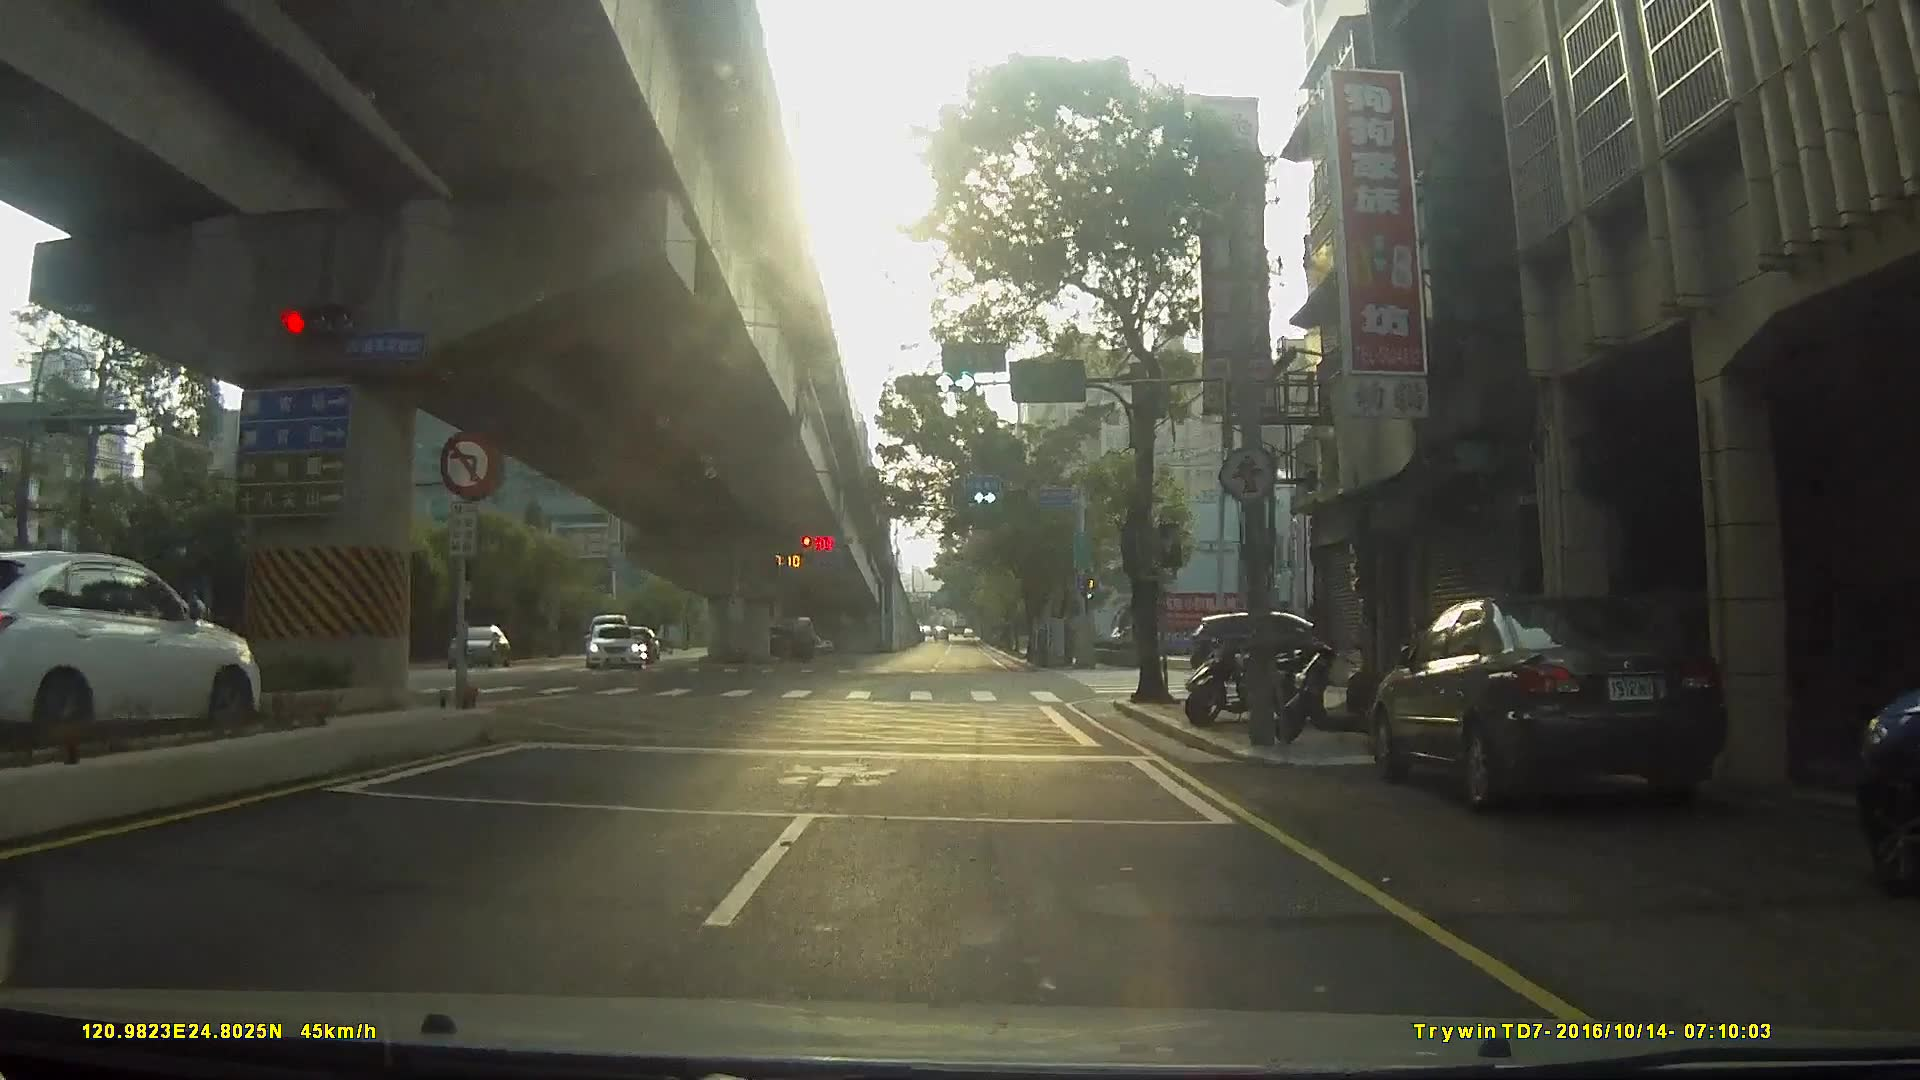vehicle: (1354, 585, 1754, 823), (1, 549, 295, 746), (1838, 680, 1920, 903), (440, 622, 506, 669), (582, 621, 640, 669), (749, 621, 816, 661)
